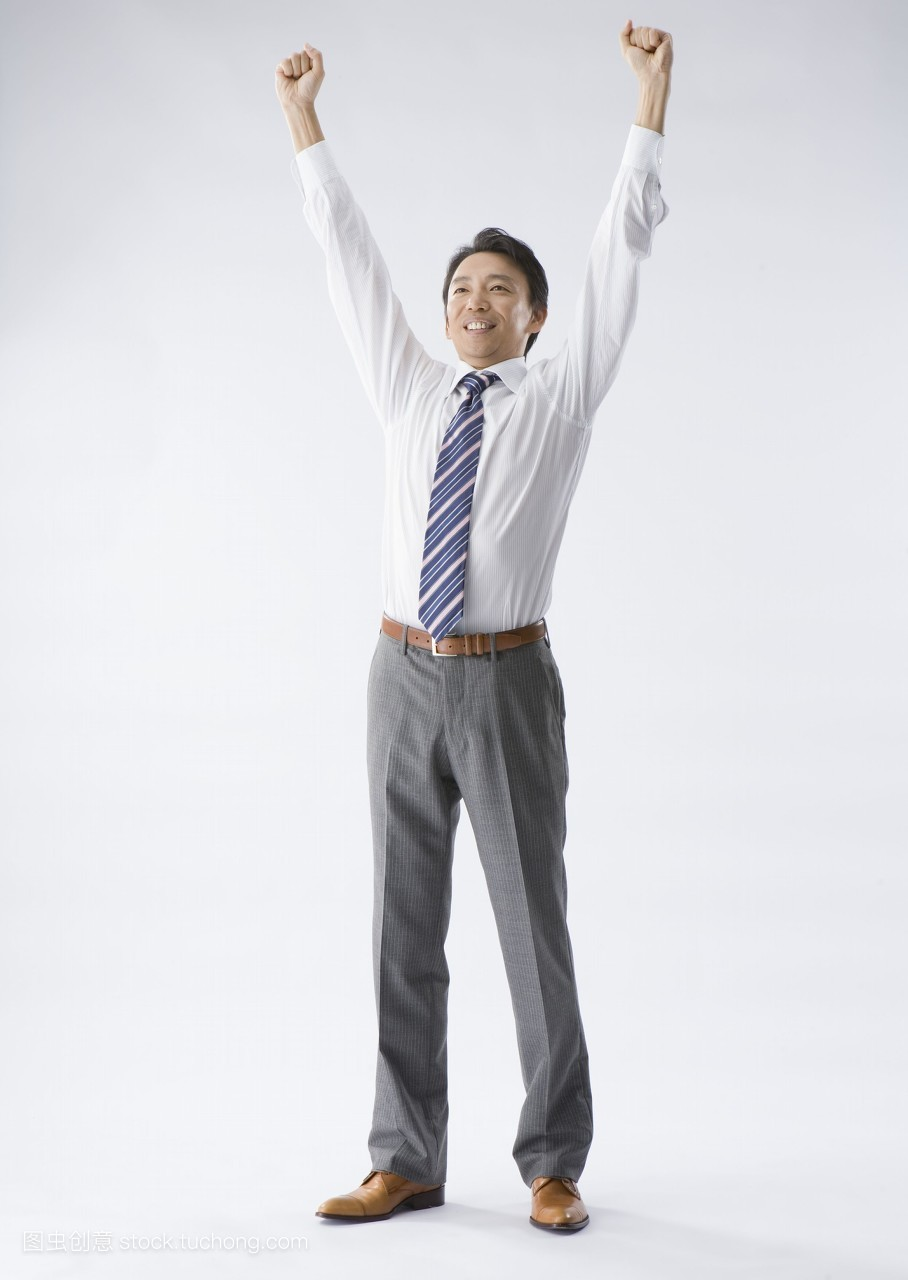handsup: (257, 18, 706, 1241)
